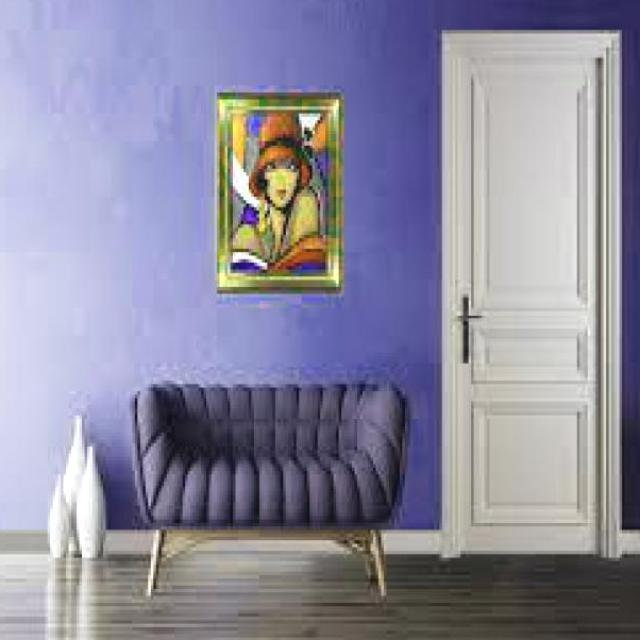door: (440, 29, 613, 558)
